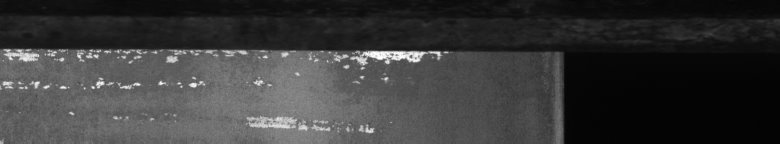kb: (4, 40, 552, 136)
